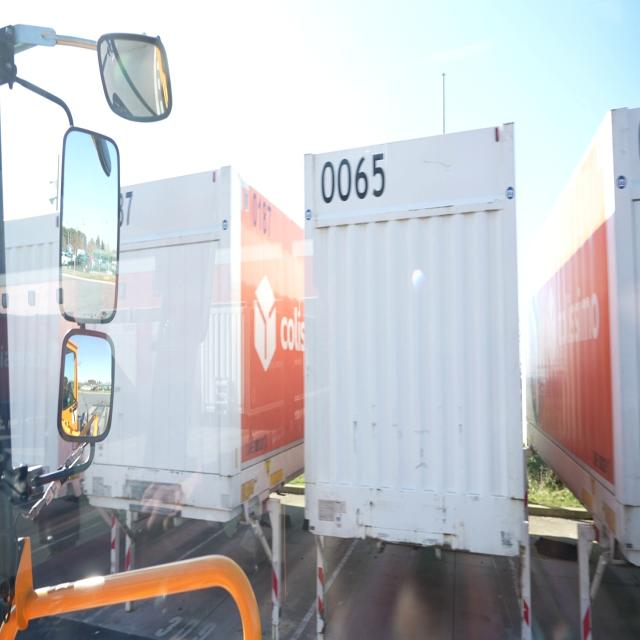Code: (319, 150, 390, 208)
